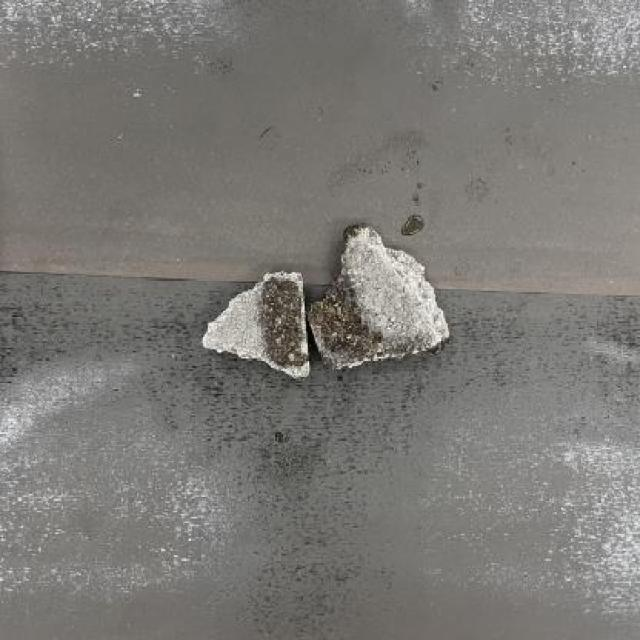Road Debris: (306, 268, 382, 366), (259, 273, 310, 378)
